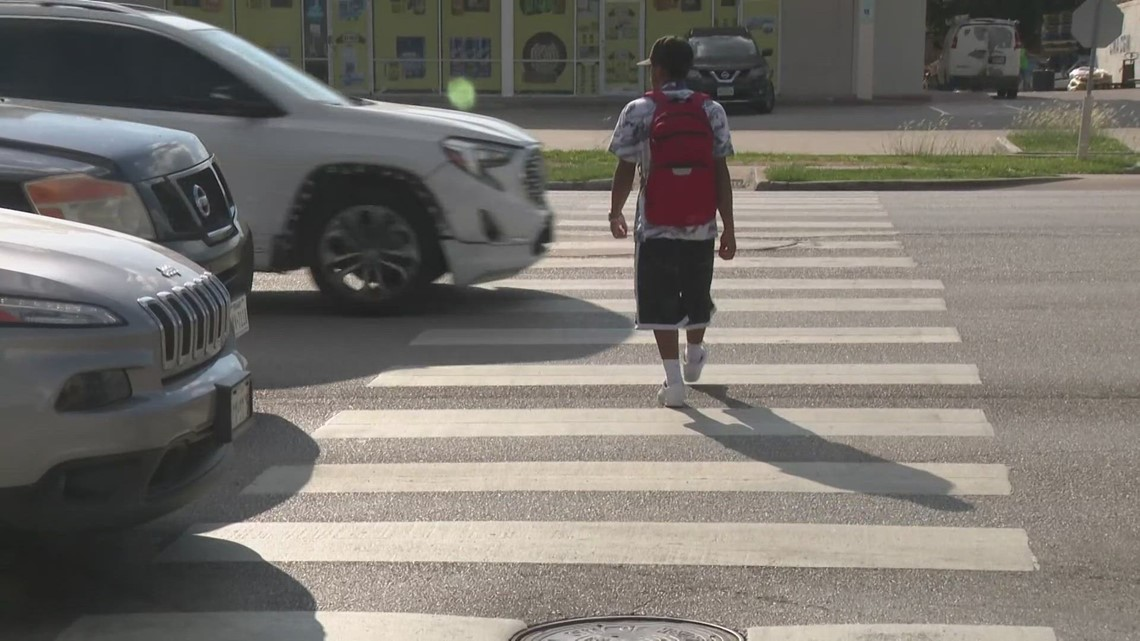Car: (1, 1, 565, 284), (1, 168, 270, 565)
Crosswalk: (368, 345, 1085, 641), (746, 177, 1083, 641)
Person: (611, 31, 732, 421)
